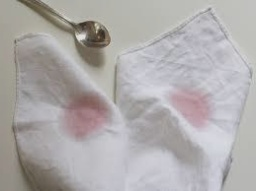wine: (56, 100, 114, 142), (171, 86, 211, 122)
